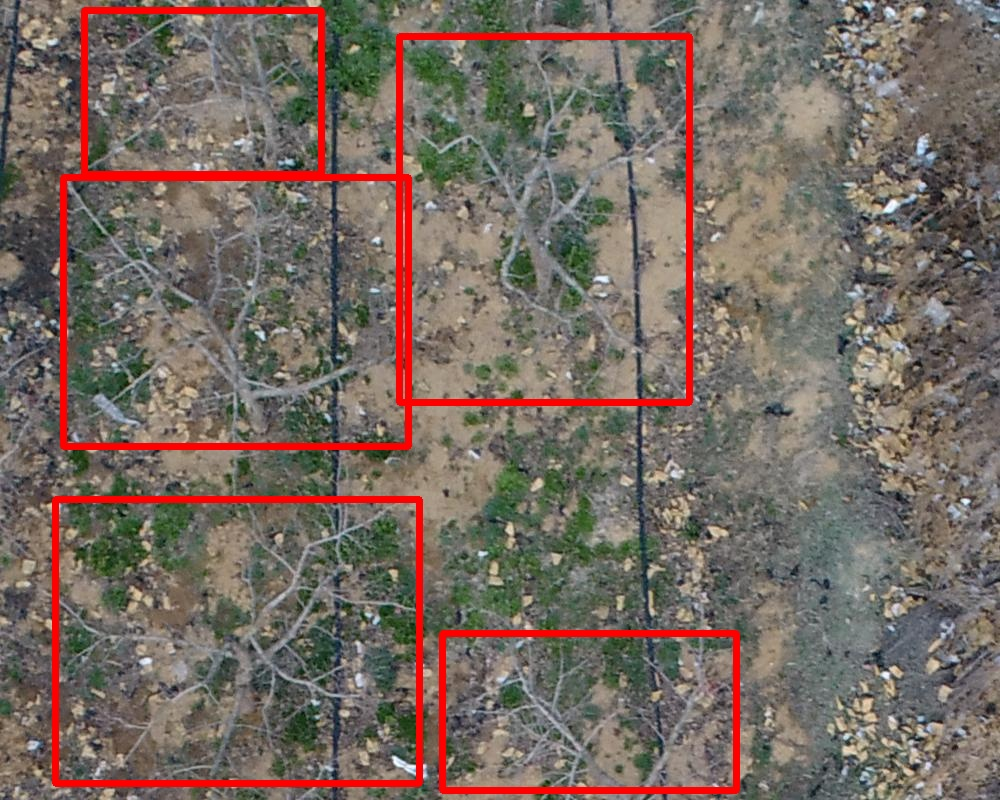apple: (399, 36, 689, 402), (55, 499, 419, 783), (63, 177, 408, 446), (442, 633, 736, 790), (84, 10, 321, 174)
